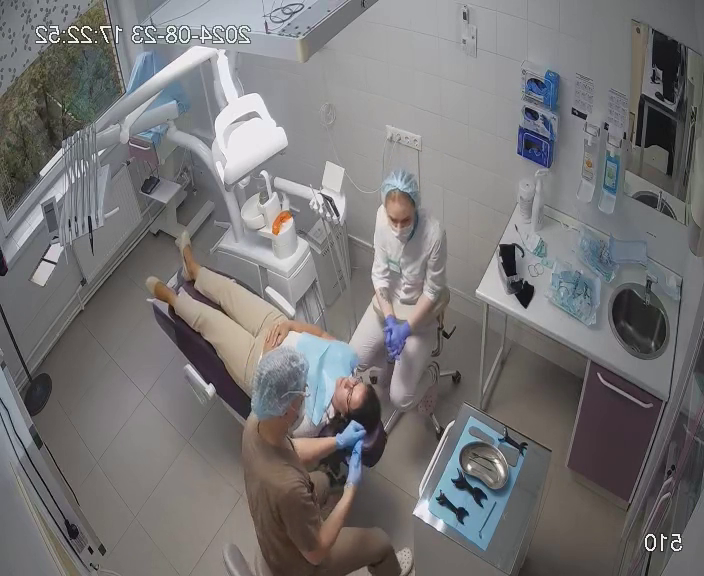Patient: (145, 232, 388, 467)
